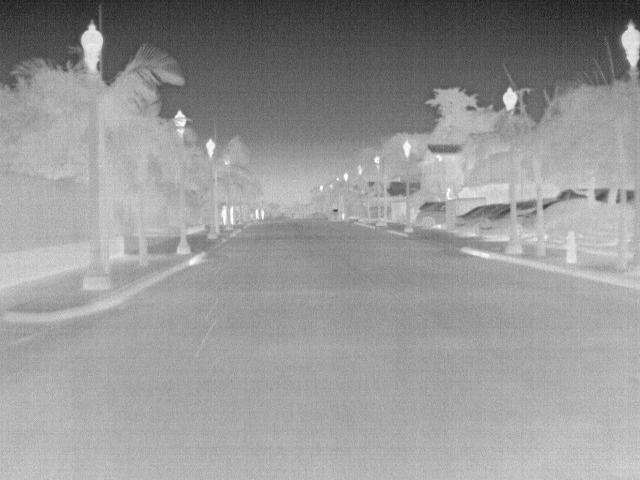car: (478, 205, 513, 242), (455, 206, 494, 232), (413, 200, 444, 228)
person: (220, 204, 228, 228), (444, 188, 456, 200), (254, 207, 261, 221), (260, 207, 267, 221)
